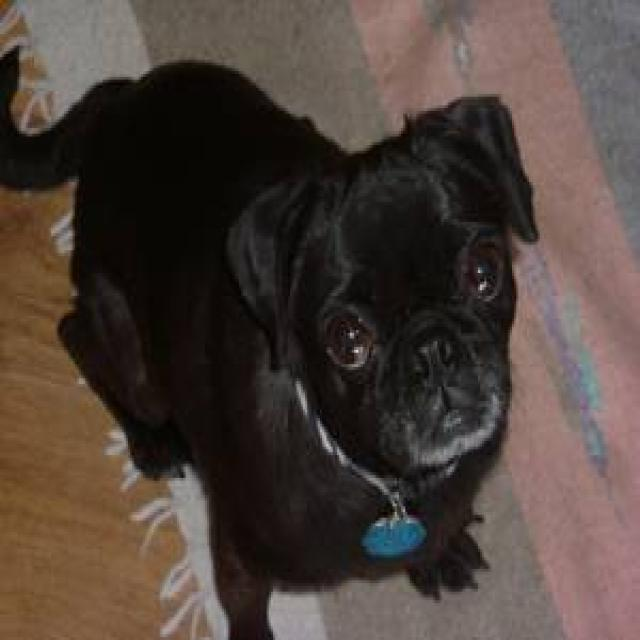dog-pug: (2, 37, 548, 634)
